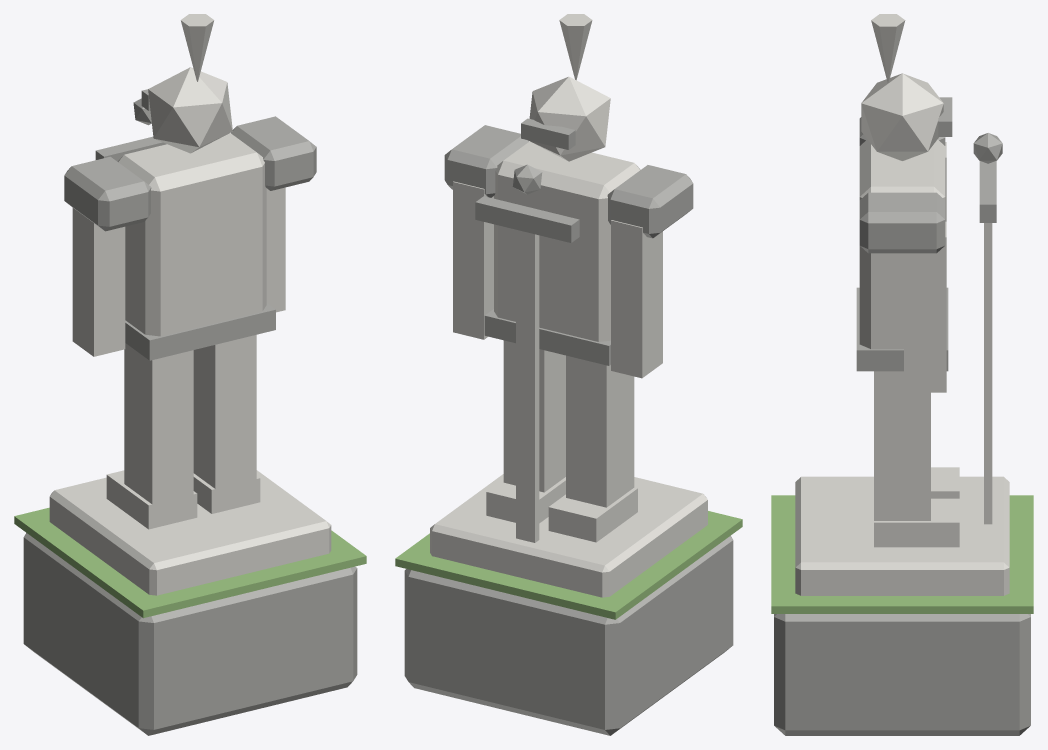
Rendered from Statue_Knight.glb.
3 renders of one model, left to right at view 1: azimuth 30°, elevation 25°; view 2: azimuth 150°, elevation 25°; view 3: azimuth 270°, elevation 25°, orthographic. The views are drawn at different scales.
Visible parts, largest first — view 1: Statue_Knight; view 2: Statue_Knight; view 3: Statue_Knight.
Part boxes in pixels (x1,y1,x2,y2): Statue_Knight: [14, 14, 366, 735]; Statue_Knight: [395, 14, 742, 735]; Statue_Knight: [771, 14, 1033, 735].
Size of the model in its own units: 0.92 by 2.58 by 0.92.
